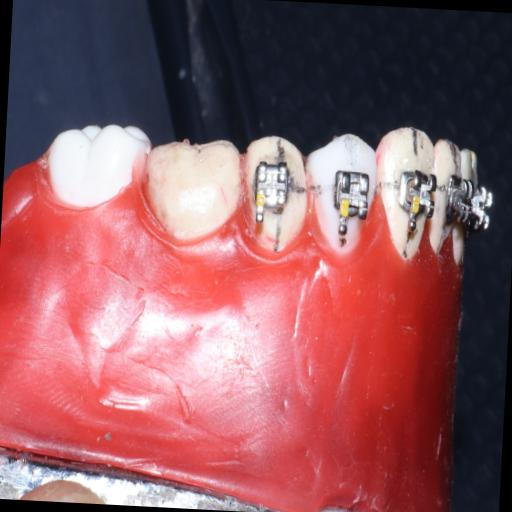incorrect_brace: (250, 158, 292, 216)
